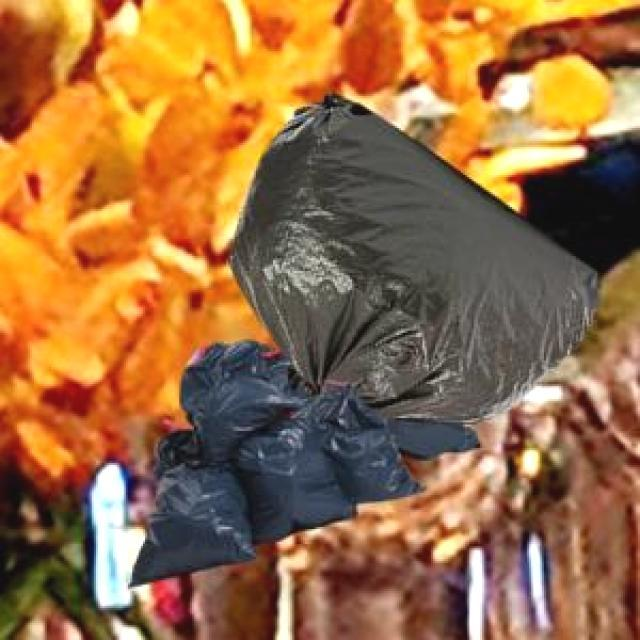Trashbag: (123, 453, 256, 596), (176, 338, 299, 458), (242, 418, 348, 544), (331, 387, 424, 504)
